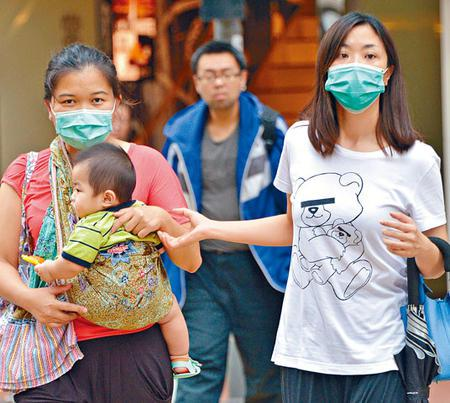NONE: (68, 169, 108, 219), (200, 64, 241, 107)
OK: (324, 36, 396, 108), (53, 85, 118, 150)
